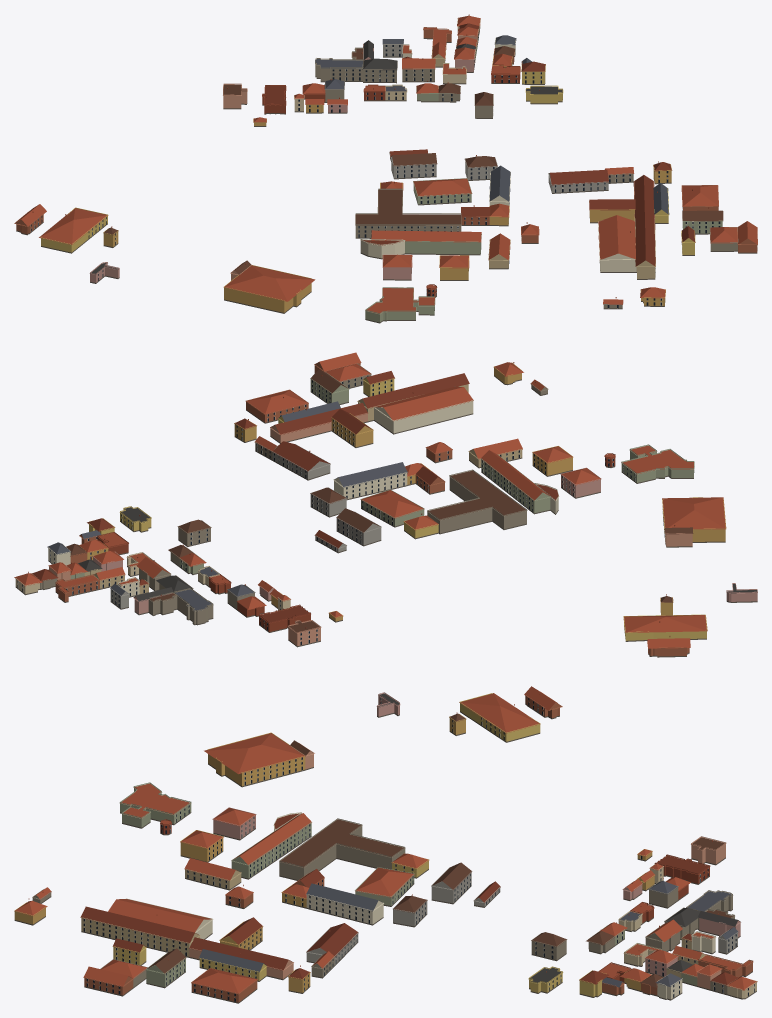
The model's file is Budynki_3_0.fbx.
3 renders of one model, top to bottom at view 1: azimuth 30°, elevation 25°; view 2: azimuth 150°, elevation 25°; view 3: azimuth 270°, elevation 25°, orthographic. The views are drawn at different scales.
Visible parts, largest first — view 1: Bud_88003492, Bud_96214042, Bud_96214035, Bud_96214032, Bud_196776641, Bud_1457436834, Bud_96214059, Bud_96214068, Bud_96214067, Bud_96214041, Bud_350960767, Bud_96214063 (+21 smaller); view 2: Bud_96214042, Bud_96214032, Bud_88003492, Bud_196776641, Bud_1457436834, Bud_96214035, Bud_96214055, Bud_96214057, Bud_96214059, Bud_96214067, Bud_96214068, Bud_96214063 (+22 smaller); view 3: Bud_96214042, Bud_88003492, Bud_96214068, Bud_196776641, Bud_96214035, Bud_1457436834, Bud_96214055, Bud_96214032, Bud_96214063, Bud_96214059, Bud_96214057, Bud_96214067 (+28 smaller).
Boxes of the visible parts, bbox=[...] form: Bud_88003492: bbox=[223, 265, 315, 313]; Bud_96214042: bbox=[355, 188, 461, 238]; Bud_96214035: bbox=[371, 230, 481, 255]; Bud_96214032: bbox=[598, 215, 636, 272]; Bud_196776641: bbox=[39, 207, 108, 253]; Bud_1457436834: bbox=[365, 287, 435, 323]; Bud_96214059: bbox=[413, 178, 472, 205]; Bud_96214068: bbox=[634, 212, 655, 279]; Bud_96214067: bbox=[548, 169, 608, 193]; Bud_96214041: bbox=[391, 153, 437, 179]; Bud_350960767: bbox=[315, 58, 363, 82]; Bud_96214063: bbox=[681, 185, 718, 210]; Bud_96214042: bbox=[427, 469, 527, 534]; Bud_96214032: bbox=[374, 386, 473, 434]; Bud_88003492: bbox=[662, 497, 726, 542]; Bud_196776641: bbox=[623, 614, 707, 641]; Bud_1457436834: bbox=[621, 444, 694, 483]; Bud_96214035: bbox=[480, 450, 550, 514]; Bud_96214055: bbox=[333, 462, 407, 500]; Bud_96214057: bbox=[270, 403, 368, 443]; Bud_96214059: bbox=[360, 489, 424, 527]; Bud_96214067: bbox=[272, 441, 330, 480]; Bud_96214068: bbox=[357, 373, 469, 422]; Bud_96214063: bbox=[245, 389, 308, 423]; Bud_96214042: bbox=[279, 818, 405, 880]; Bud_88003492: bbox=[204, 732, 305, 787]; Bud_96214068: bbox=[80, 906, 200, 957]; Bud_196776641: bbox=[459, 693, 540, 742]; Bud_96214035: bbox=[231, 813, 311, 879]; Bud_1457436834: bbox=[119, 782, 191, 828]; Bud_96214055: bbox=[306, 883, 383, 925]; Bud_96214032: bbox=[108, 898, 213, 939]; Bud_96214063: bbox=[191, 968, 257, 1003]; Bud_96214059: bbox=[355, 867, 414, 906]; Bud_96214057: bbox=[189, 937, 293, 980]; Bud_96214067: bbox=[306, 923, 358, 966].
Bounding box in the file's own units: 477 × 16.7 × 494.
